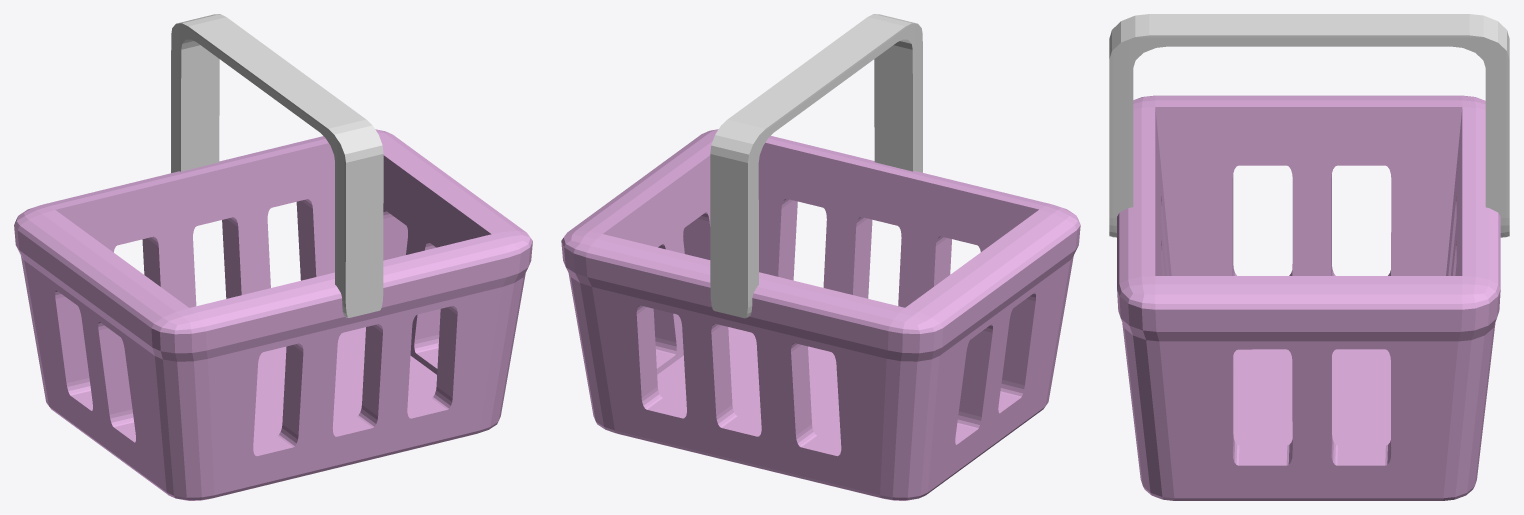
Rendered from BasketMesh.fbx.
3 renders of one model, left to right at view 1: azimuth 30°, elevation 25°; view 2: azimuth 150°, elevation 25°; view 3: azimuth 270°, elevation 25°, orthographic. The views are drawn at different scales.
Visible parts, largest first — view 1: Roundcube.003; view 2: Roundcube.003; view 3: Roundcube.003.
Boxes of the visible parts, x1,y1,x2,y2 form: Roundcube.003: (14,14,532,500); Roundcube.003: (561,14,1080,500); Roundcube.003: (1109,14,1509,500).
Bounding box in the file's own units: 256 × 223 × 205.
